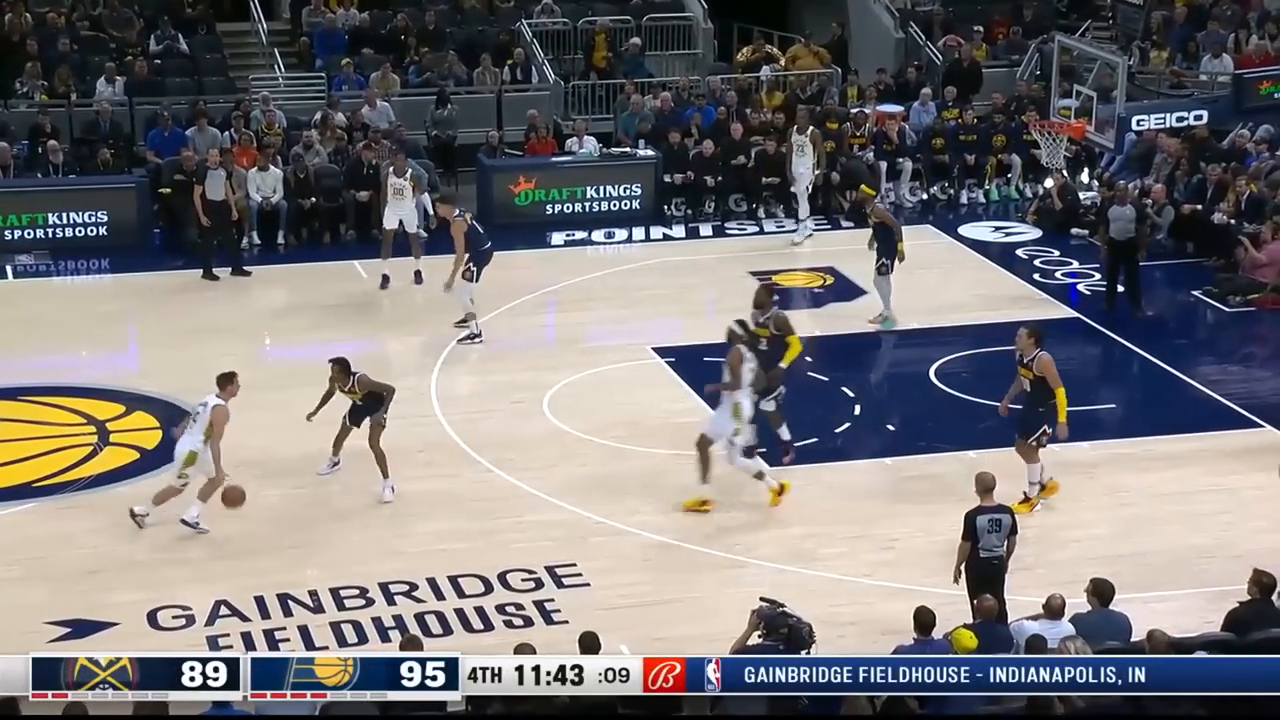ball: (215, 479, 250, 513)
net: (1025, 117, 1074, 172)
